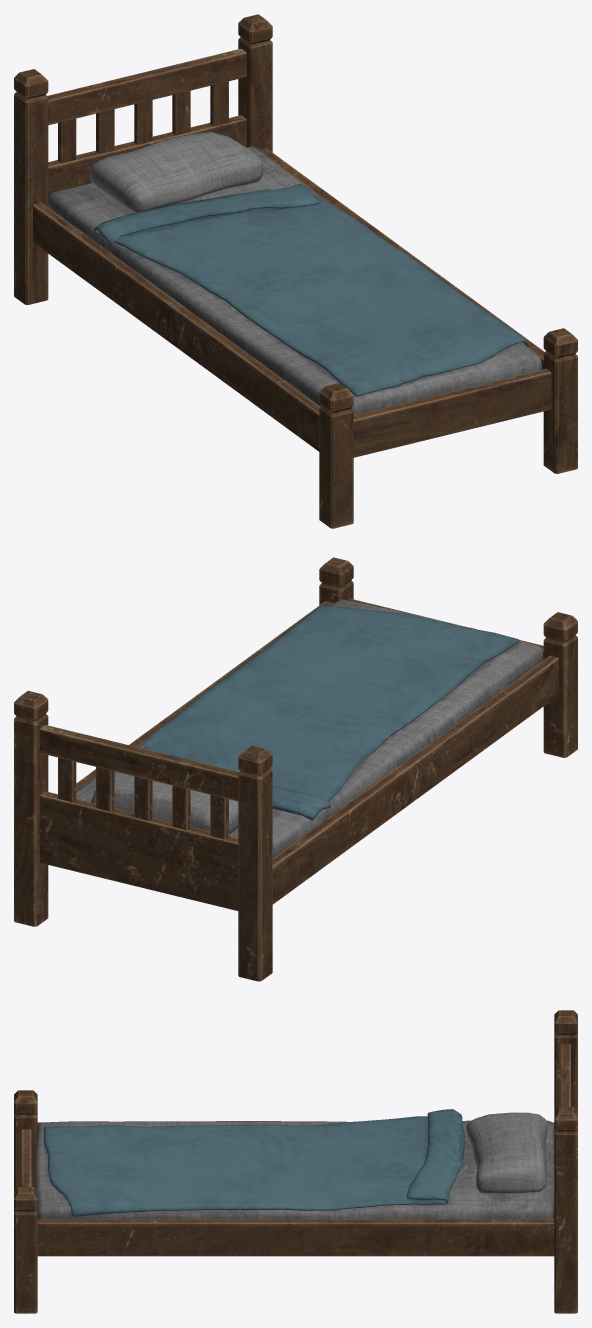
File: old_bed.dae
The picture shows the model from 3 angles, top to bottom: view 1: azimuth 30°, elevation 25°; view 2: azimuth 150°, elevation 25°; view 3: azimuth 270°, elevation 25°; orthographic projection. The views are drawn at different scales.
Parts seen in each view (by area): view 1: Bed; view 2: Bed; view 3: Bed.
Part boxes in pixels (x1=…): Bed: x1=14, y1=14, x2=577, y2=528; Bed: x1=14, y1=557, x2=577, y2=981; Bed: x1=14, y1=1010, x2=577, y2=1313.
Bounding box in the file's own units: 0.7864 × 1.76 × 0.6819.
Materials: 1 (1 with a texture image).
